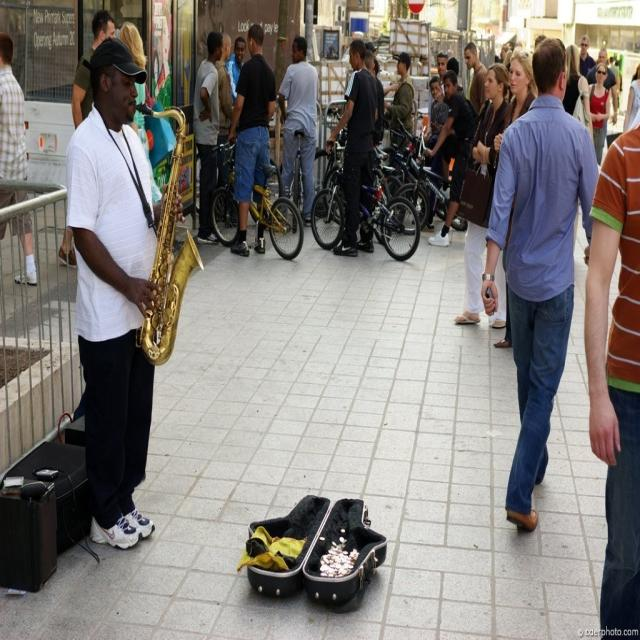saxophone: (129, 98, 206, 368)
